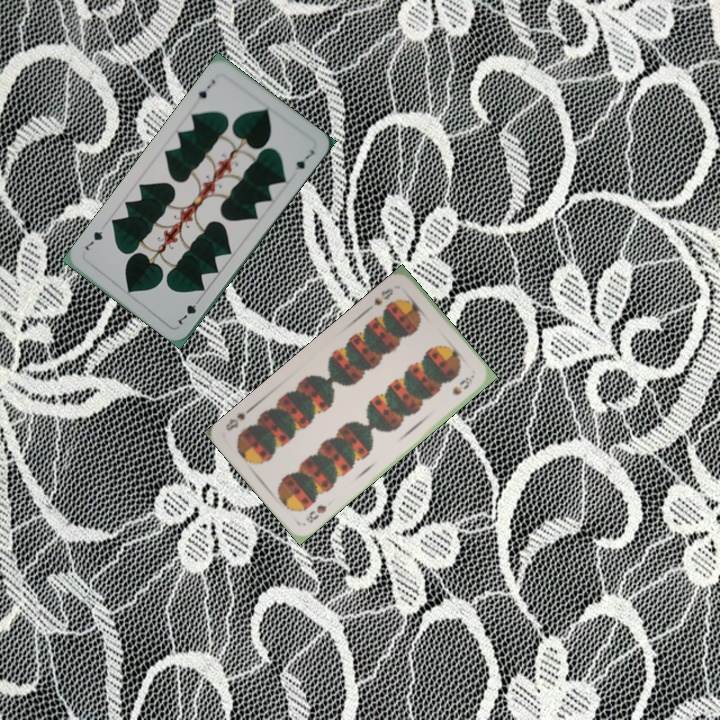G7: (174, 294, 203, 328), (194, 75, 218, 102)
S8: (302, 501, 329, 526), (370, 284, 396, 308)
